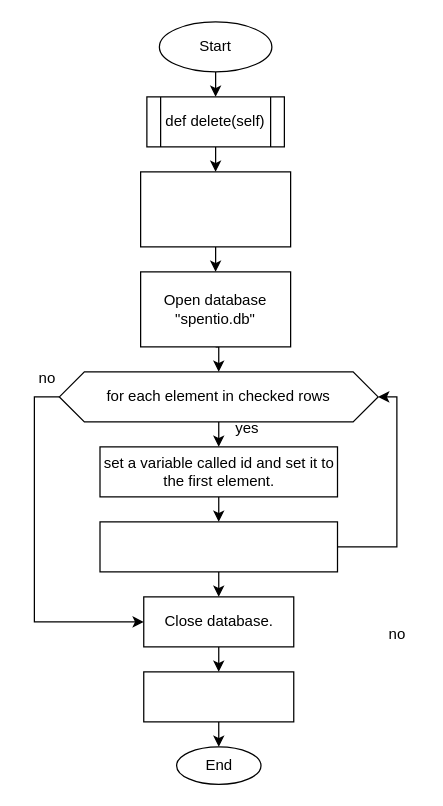
The diagram is 443 pixels wide and 806 high, and some of its shapes have lost their labels. Each missing label, with the centre of its shape:
Delete the entry from the sqlite database that matches the id.: point (218, 546)
Get the rows checked off by user.: point (215, 209)
Reflect the changes on the Data Table.: point (218, 696)
